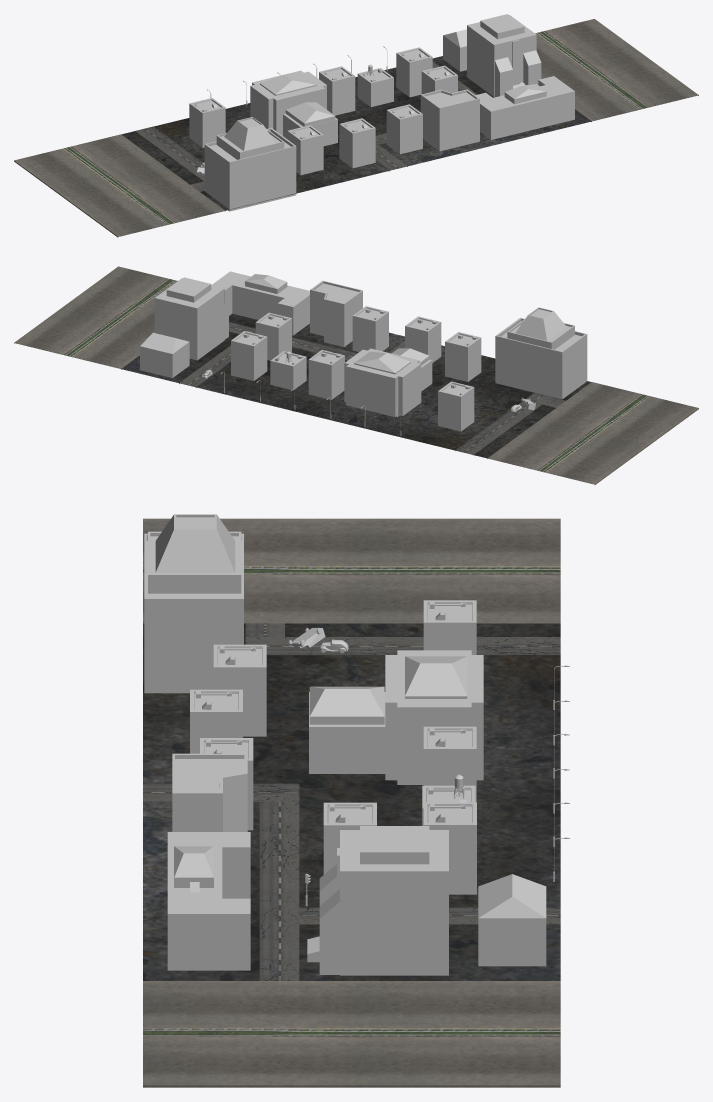
Rendered from Block_18.fbx.
The picture shows the model from 3 angles, top to bottom: view 1: azimuth 30°, elevation 25°; view 2: azimuth 150°, elevation 25°; view 3: azimuth 270°, elevation 25°; orthographic projection. The views are drawn at different scales.
Parts seen in each view (by area): view 1: pasted__polySurface1349; view 2: pasted__polySurface1349; view 3: pasted__polySurface1349.
Boxes of the visible parts, box(x1,y1,x2,y2) form: pasted__polySurface1349: box(14, 14, 698, 237); pasted__polySurface1349: box(14, 266, 698, 484); pasted__polySurface1349: box(143, 514, 569, 1087).
Bounding box in the file's own units: 459 × 146 × 55.11.
